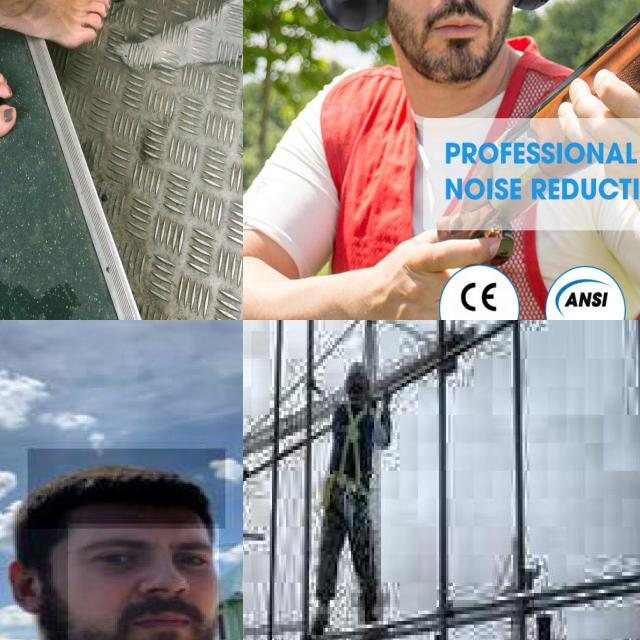Barefoots: (0, 0, 112, 48)
Ear-protection: (305, 0, 583, 115)
Harness: (339, 402, 366, 483)
No_Ear-Protection: (1, 554, 54, 616)
No_Glasses: (62, 526, 229, 585)
face_nomask: (68, 524, 219, 640)
head_nohelmet: (28, 448, 225, 528)
person: (0, 440, 243, 640)
